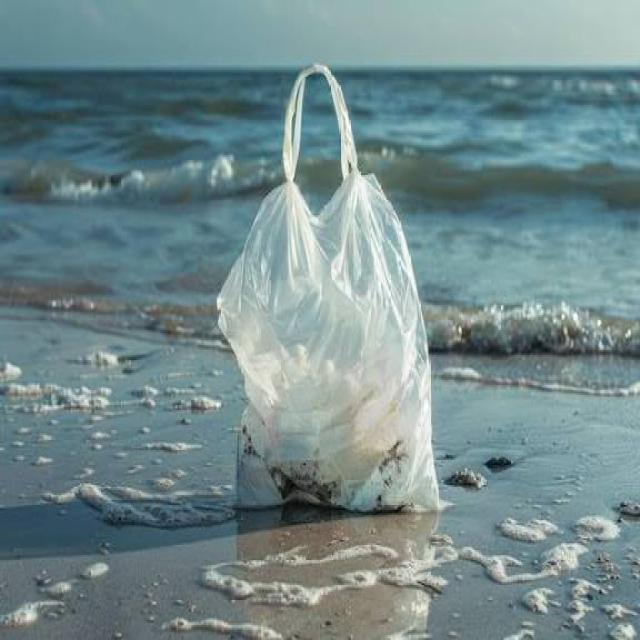bag: (202, 80, 494, 574)
